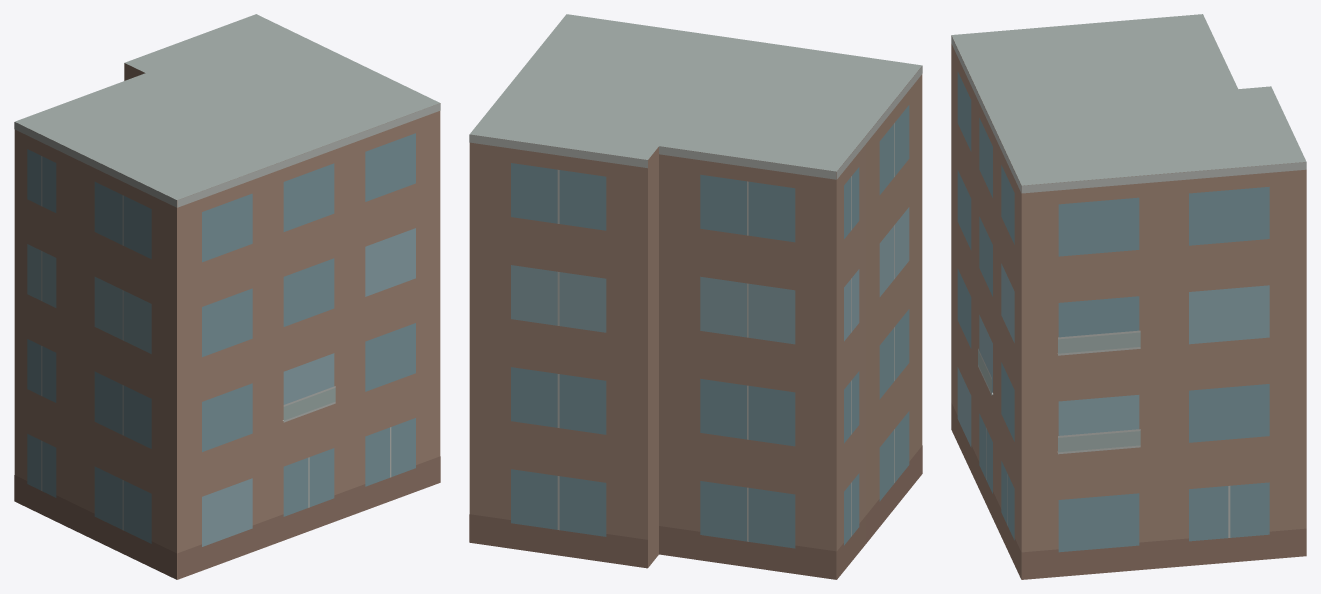
File: residential-d0e92303-3c06-4bac-865f-51b23937e284.glb
3 renders of one model, left to right at view 1: azimuth 30°, elevation 25°; view 2: azimuth 150°, elevation 25°; view 3: azimuth 270°, elevation 25°, orthographic. The views are drawn at different scales.
Visible parts, largest first — view 1: residential-d0e92303-3c06-4bac-865f-51b23937e284.tmp; view 2: residential-d0e92303-3c06-4bac-865f-51b23937e284.tmp; view 3: residential-d0e92303-3c06-4bac-865f-51b23937e284.tmp.
Boxes of the visible parts, <box> form: residential-d0e92303-3c06-4bac-865f-51b23937e284.tmp: <box>14,14,440,579</box>; residential-d0e92303-3c06-4bac-865f-51b23937e284.tmp: <box>469,14,922,579</box>; residential-d0e92303-3c06-4bac-865f-51b23937e284.tmp: <box>951,14,1306,579</box>.
Size of the model in its own units: 11.4 by 12.2 by 9.97.
